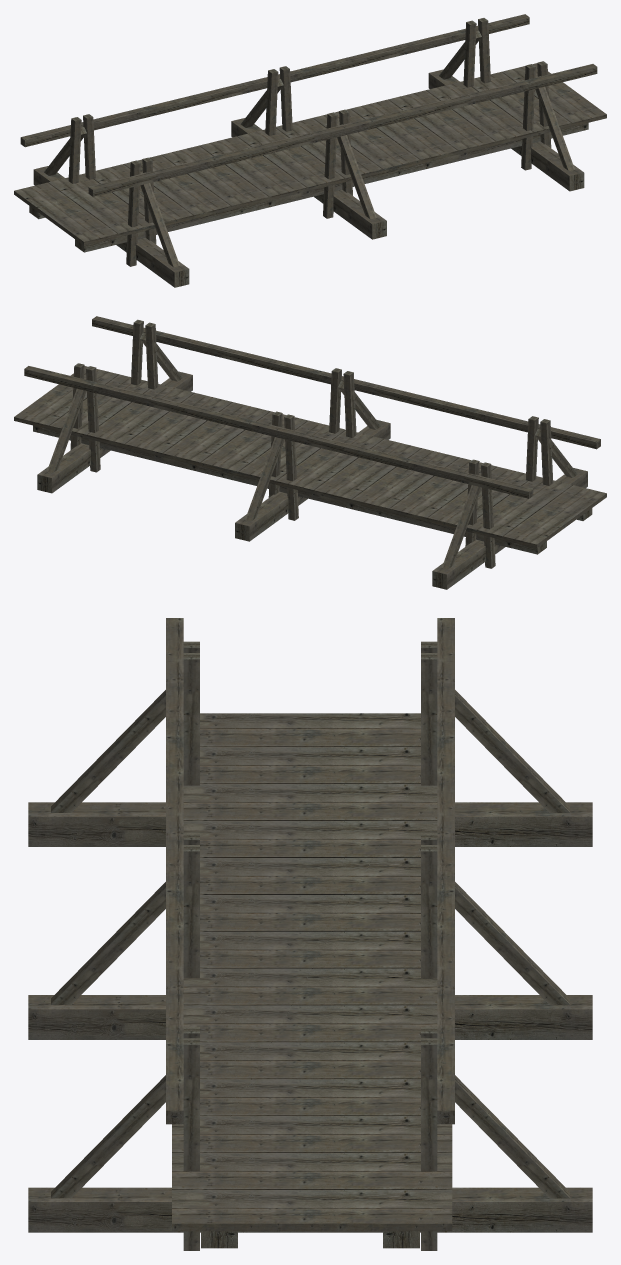
The model's file is bridge_wood_01_LOD.fbx.
3 views of the same model, one above another, from view 1: azimuth 30°, elevation 25°; view 2: azimuth 150°, elevation 25°; view 3: azimuth 270°, elevation 25° (orthographic). The views are drawn at different scales.
Visible parts, largest first — view 1: Mesh Object; view 2: Mesh Object; view 3: Mesh Object.
Boxes of the visible parts, x1,y1,x2,y2 form: Mesh Object: (14, 14, 606, 287); Mesh Object: (14, 316, 606, 589); Mesh Object: (28, 618, 592, 1250).
Bounding box in the file's own units: 7.15 × 1.32 × 3.34.
